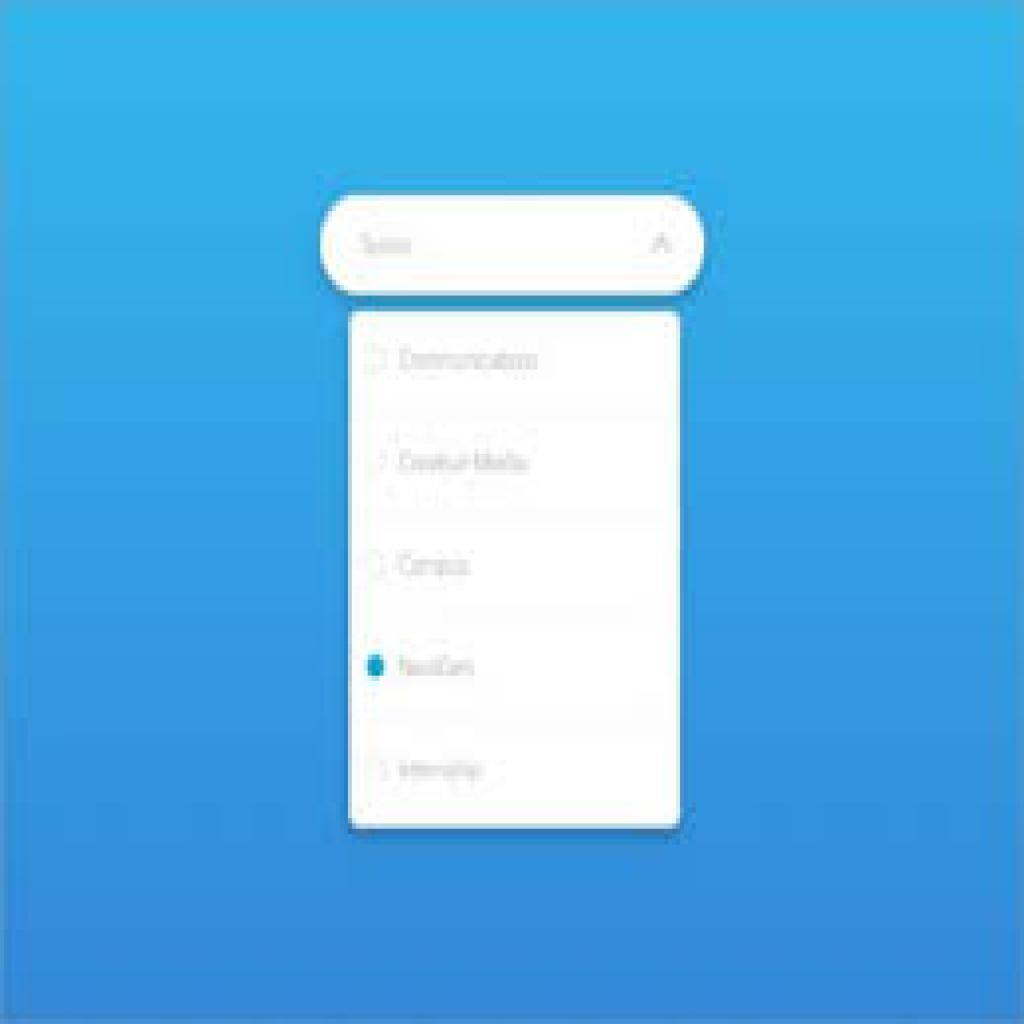dropdown: (319, 196, 707, 299)
